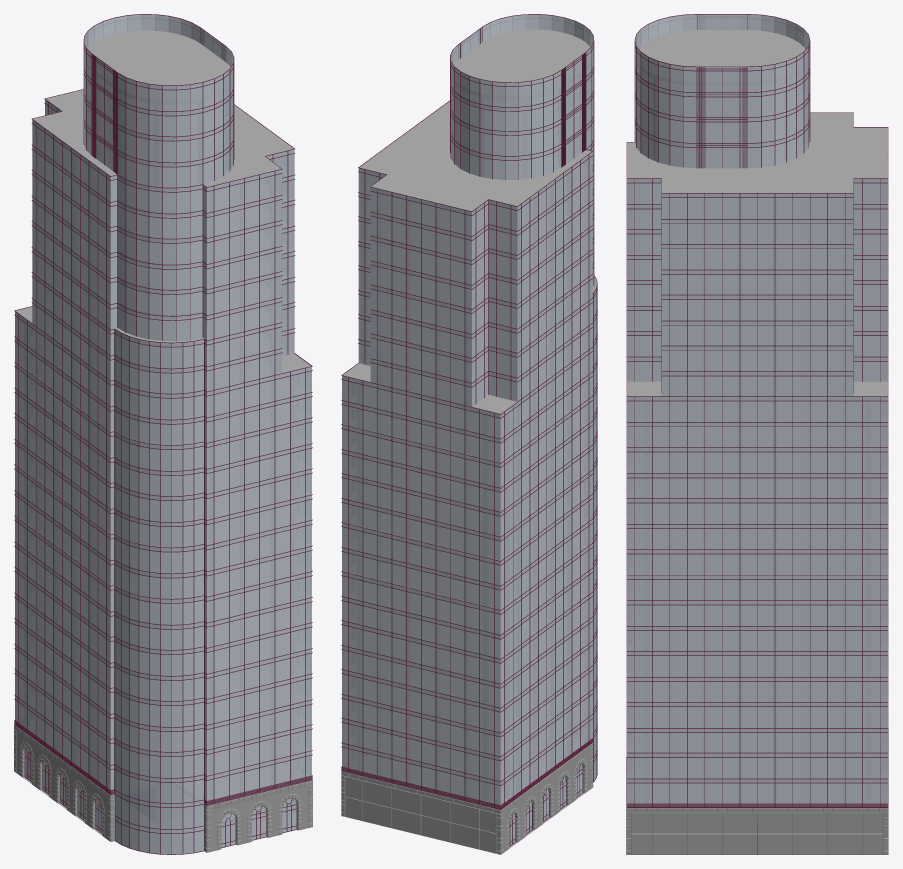
The model's file is Office-Tower.baked.fbx.
3 views of the same model, side by side, from view 1: azimuth 30°, elevation 25°; view 2: azimuth 150°, elevation 25°; view 3: azimuth 270°, elevation 25° (orthographic). The views are drawn at different scales.
Visible parts, largest first — view 1: Levels 10 11; view 2: Levels 10 11; view 3: Levels 10 11.
Boxes of the visible parts, <box> form: Levels 10 11: <box>14,14,312,854</box>; Levels 10 11: <box>341,14,597,854</box>; Levels 10 11: <box>626,14,888,854</box>.
Bounding box in the file's own units: 823 × 3604 × 1123.
